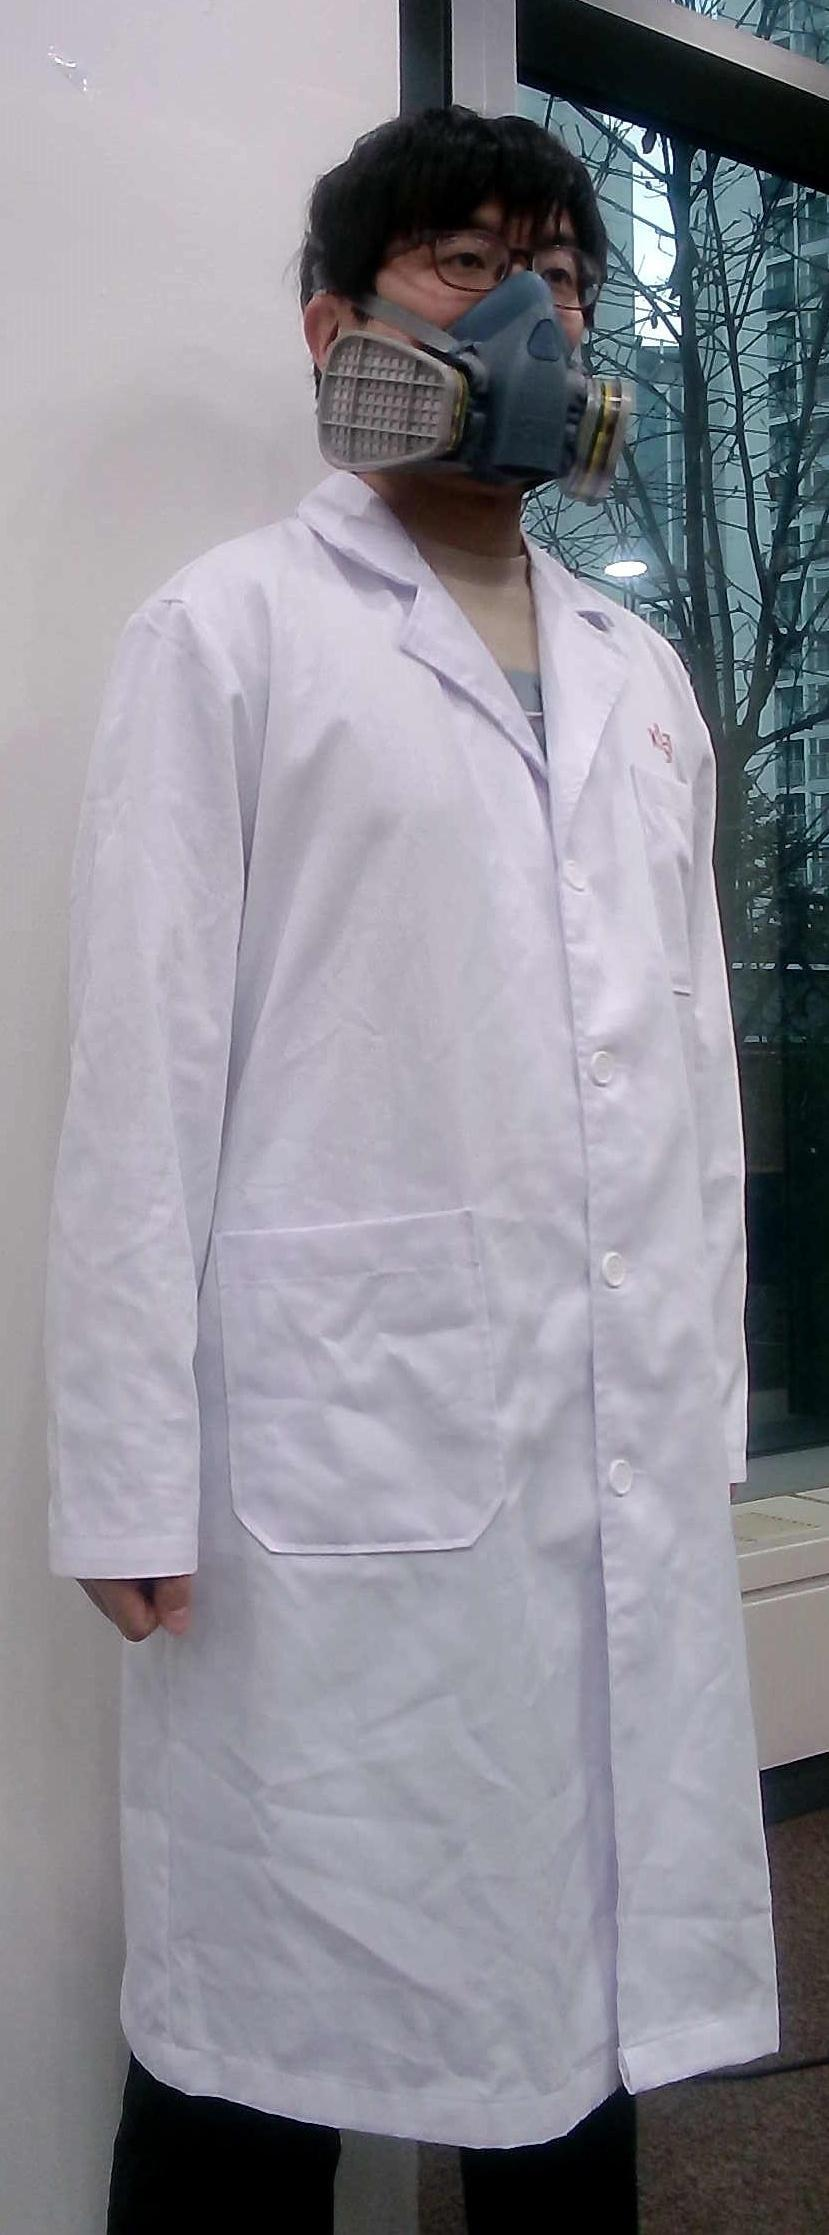lab_coat: (61, 592, 816, 2091)
